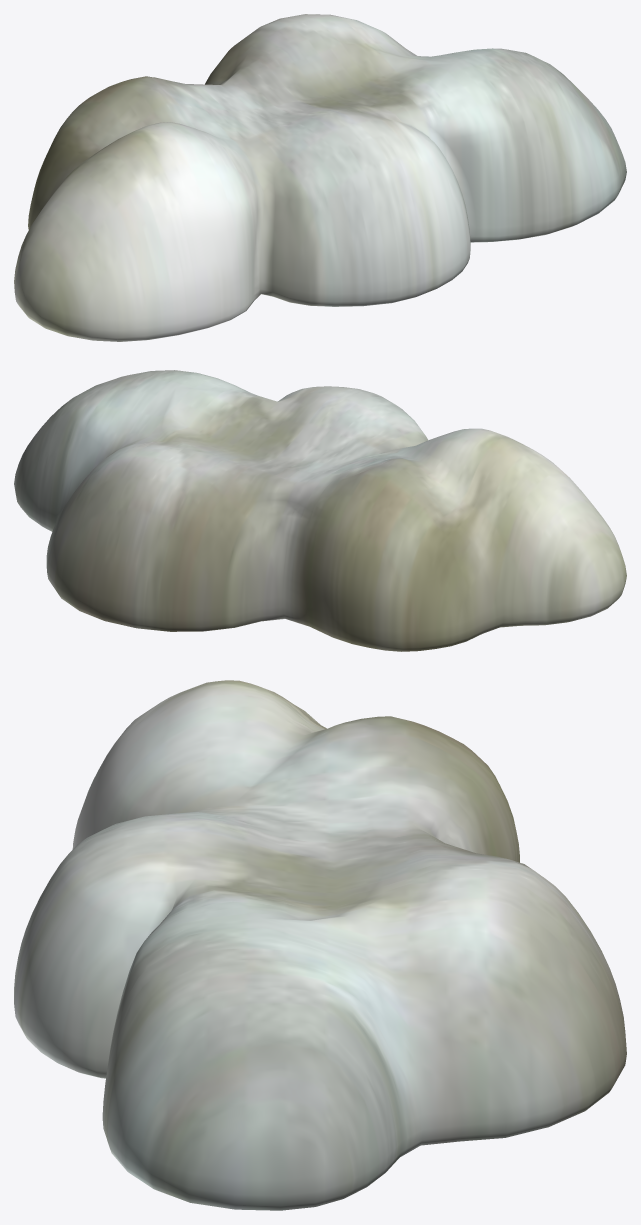
The picture shows the model from 3 angles, top to bottom: view 1: azimuth 30°, elevation 25°; view 2: azimuth 150°, elevation 25°; view 3: azimuth 270°, elevation 25°; orthographic projection. The views are drawn at different scales.
Parts seen in each view (by area): view 1: Line001; view 2: Line001; view 3: Line001.
Part boxes in pixels (x1,y1,x2,y2): Line001: [14, 14, 626, 341]; Line001: [14, 370, 626, 651]; Line001: [14, 680, 626, 1210].
Size of the model in its own units: 29.83 by 7.34 by 19.06.
Materials: 1 (1 with a texture image).
